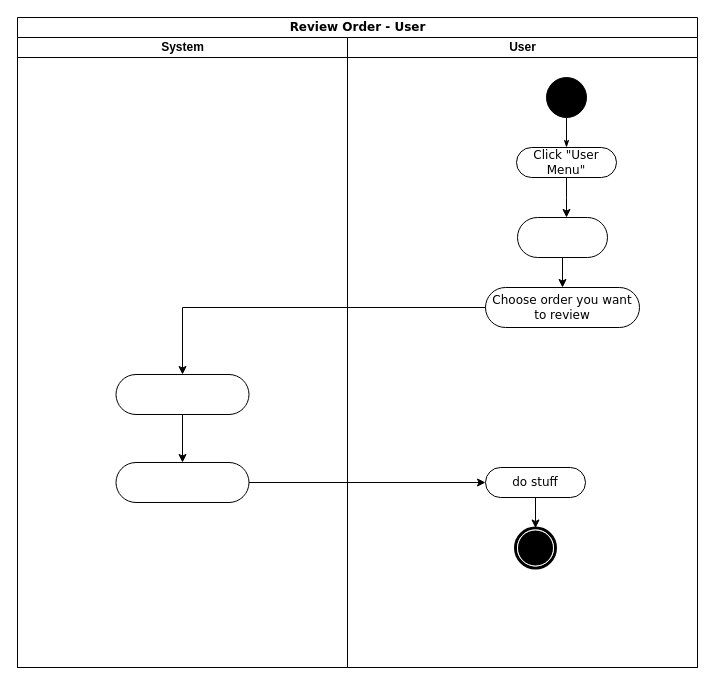
Some shapes in this 715 by 685 pixel diagram are drawn without their labels. Here are the shapes that lost their labels. From the top down, the centre of each, then its label:
point 562,237: Click "Add Review"
point 182,394: Add the review to the DB
point 182,482: show appropriate message
